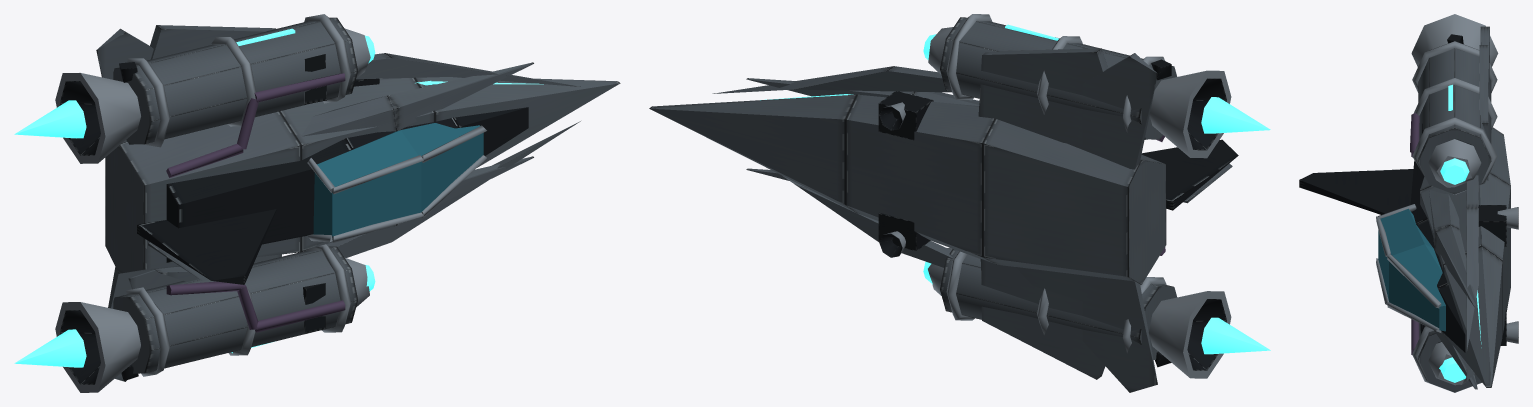
File: rocket-low.glb
3 views of the same model, side by side, from view 1: azimuth 30°, elevation 25°; view 2: azimuth 150°, elevation 25°; view 3: azimuth 270°, elevation 25° (orthographic). The views are drawn at different scales.
Parts seen in each view (by area): view 1: rocket-root.001 / Brushed pale alloy.001, rocket-root.001 / Ceramic graphite.001, rocket-root.001 / Titanium edges.001, rocket-root.001 / Cyan glazing.001, rocket-root.001 / Anodized hardware.001, Engine exhaust.003 / Cyan instrumentation.001, Engine exhaust.002 / Cyan instrumentation.001, rocket-root.001 / Cyan instrumentation.001; view 2: rocket-root.001 / Brushed pale alloy.001, rocket-root.001 / Titanium edges.001, rocket-root.001 / Ceramic graphite.001, Engine exhaust.002 / Cyan instrumentation.001, Engine exhaust.003 / Cyan instrumentation.001, rocket-root.001 / Cyan instrumentation.001; view 3: rocket-root.001 / Brushed pale alloy.001, rocket-root.001 / Titanium edges.001, rocket-root.001 / Ceramic graphite.001, rocket-root.001 / Cyan glazing.001, rocket-root.001 / Cyan instrumentation.001, rocket-root.001 / Anodized hardware.001.
Part boxes in pixels (box(x1,y1,x2,y2)): rocket-root.001 / Brushed pale alloy.001: box(96, 17, 620, 381); rocket-root.001 / Ceramic graphite.001: box(60, 54, 528, 384); rocket-root.001 / Titanium edges.001: box(55, 14, 486, 392); rocket-root.001 / Cyan glazing.001: box(313, 123, 483, 237); rocket-root.001 / Anodized hardware.001: box(166, 73, 345, 332); Engine exhaust.003 / Cyan instrumentation.001: box(14, 100, 86, 138); Engine exhaust.002 / Cyan instrumentation.001: box(14, 329, 86, 367); rocket-root.001 / Cyan instrumentation.001: box(231, 28, 543, 353); rocket-root.001 / Brushed pale alloy.001: box(649, 17, 1232, 392); rocket-root.001 / Titanium edges.001: box(883, 14, 1231, 378); rocket-root.001 / Ceramic graphite.001: box(878, 59, 1238, 370); Engine exhaust.002 / Cyan instrumentation.001: box(1201, 317, 1270, 354); Engine exhaust.003 / Cyan instrumentation.001: box(1201, 97, 1270, 133); rocket-root.001 / Cyan instrumentation.001: box(760, 24, 1058, 284); rocket-root.001 / Brushed pale alloy.001: box(1418, 26, 1510, 392); rocket-root.001 / Titanium edges.001: box(1376, 14, 1518, 392); rocket-root.001 / Ceramic graphite.001: box(1299, 34, 1518, 352); rocket-root.001 / Cyan glazing.001: box(1378, 208, 1445, 331); rocket-root.001 / Cyan instrumentation.001: box(1439, 84, 1481, 382); rocket-root.001 / Anodized hardware.001: box(1410, 113, 1419, 355).
Bounding box in the file's own units: 1.7 × 0.9092 × 0.5978.
Materials: 6 (2 with a texture image).
